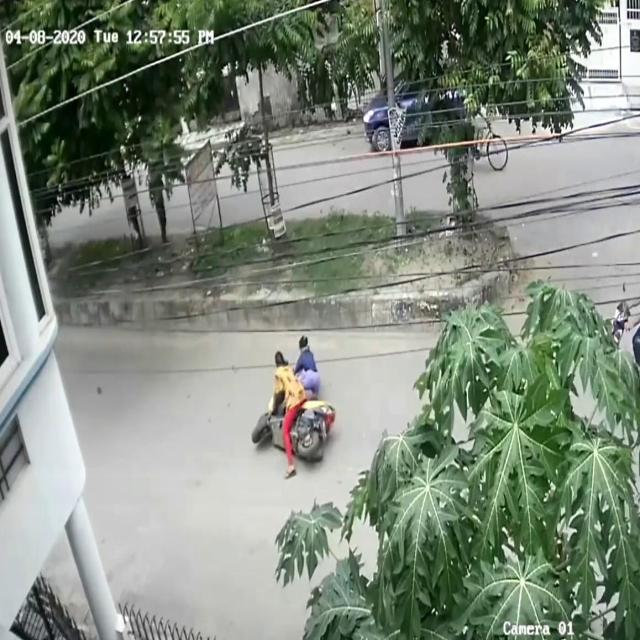accident: (244, 330, 340, 486)
